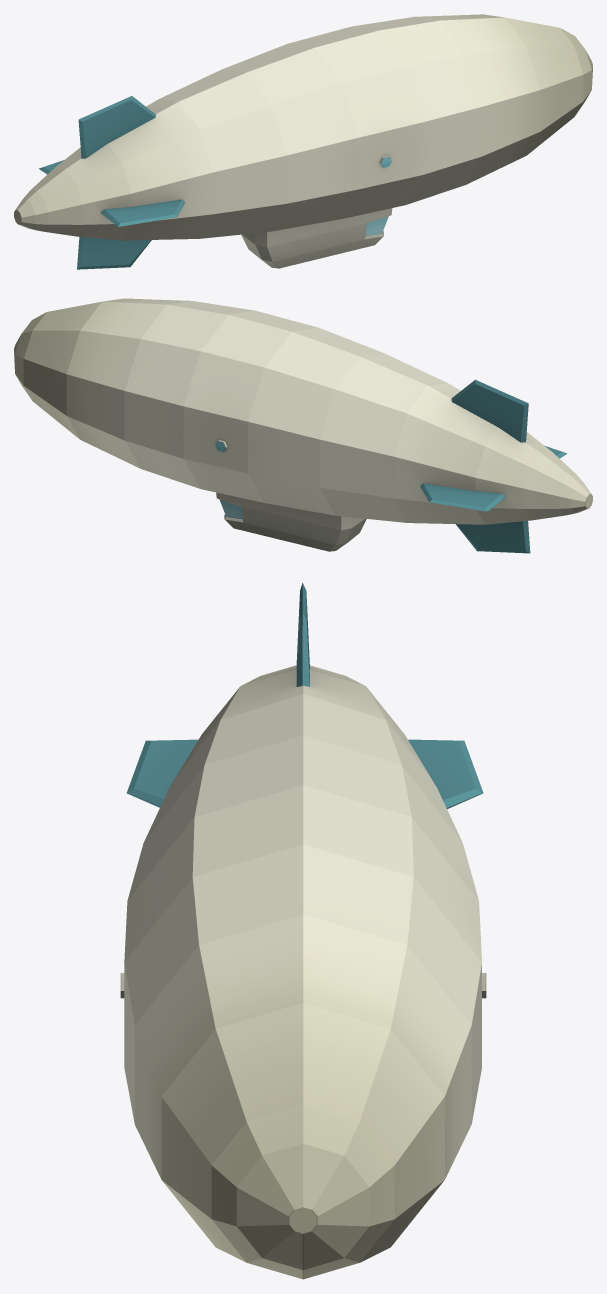
Rendered from Blimp.obj.
The picture shows the model from 3 angles, top to bottom: view 1: azimuth 30°, elevation 25°; view 2: azimuth 150°, elevation 25°; view 3: azimuth 270°, elevation 25°; orthographic projection. The views are drawn at different scales.
Parts seen in each view (by area): view 1: Blimp_mesh1; view 2: Blimp_mesh1; view 3: Blimp_mesh1.
Part boxes in pixels (x1,y1,x2,y2): Blimp_mesh1: [14, 14, 592, 269]; Blimp_mesh1: [14, 298, 592, 553]; Blimp_mesh1: [120, 583, 486, 1279].
Bounding box in the file's own units: 18.26 × 6.24 × 5.06.
Materials: 1 (1 with a texture image).
